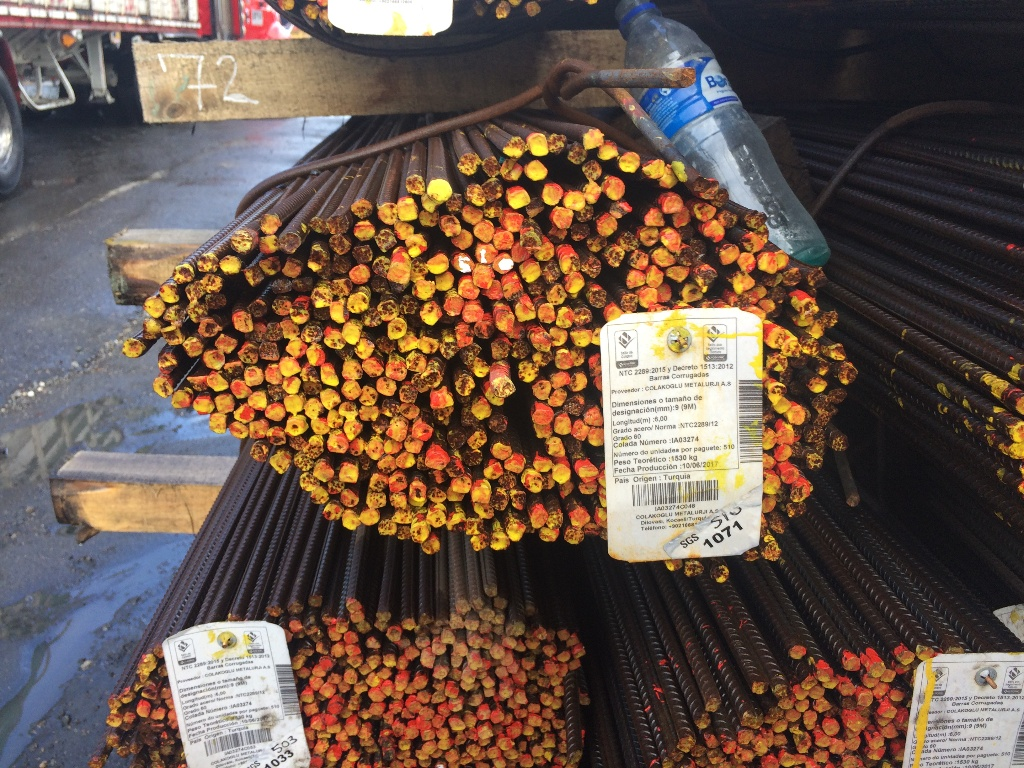dipstick: (425, 178, 455, 202), (305, 247, 333, 272), (143, 295, 170, 320), (229, 228, 257, 252), (430, 391, 458, 414), (459, 203, 485, 226), (506, 186, 530, 210), (406, 349, 430, 373), (197, 252, 221, 276), (658, 192, 685, 213), (730, 271, 758, 291), (493, 377, 519, 398), (504, 138, 532, 157), (532, 240, 555, 263), (279, 232, 302, 255), (661, 228, 684, 251), (580, 182, 604, 204), (701, 221, 725, 243), (542, 180, 563, 205), (387, 265, 412, 286), (327, 234, 353, 254), (204, 295, 230, 315), (456, 152, 479, 174), (525, 159, 548, 181), (601, 176, 623, 199), (471, 265, 494, 287), (232, 311, 255, 333), (426, 446, 449, 468), (183, 336, 206, 358), (756, 251, 777, 275), (458, 277, 482, 298), (421, 302, 445, 323), (197, 318, 221, 339), (521, 470, 545, 491), (167, 387, 191, 408), (566, 328, 591, 348), (205, 374, 230, 394), (527, 133, 549, 155), (697, 178, 719, 200), (682, 280, 704, 302), (657, 164, 678, 187), (734, 252, 757, 273), (354, 219, 375, 242), (406, 235, 427, 258), (320, 363, 341, 386), (260, 214, 284, 234), (428, 253, 448, 277), (452, 328, 476, 348), (824, 342, 848, 362), (175, 264, 199, 284), (247, 420, 272, 439), (375, 231, 396, 253), (258, 235, 280, 256), (220, 255, 242, 276), (349, 263, 370, 285), (494, 312, 516, 333), (455, 375, 476, 397), (530, 331, 552, 352), (342, 360, 364, 381), (365, 436, 386, 458), (377, 300, 399, 321), (567, 140, 587, 163), (552, 206, 572, 229), (610, 200, 633, 220), (597, 213, 617, 236), (438, 215, 461, 235), (505, 211, 525, 234), (516, 298, 536, 321), (663, 265, 690, 282), (537, 302, 556, 326), (162, 326, 186, 345), (473, 221, 494, 242), (476, 242, 497, 263), (463, 302, 484, 323), (311, 286, 332, 307), (216, 333, 237, 354), (502, 160, 524, 180), (466, 185, 486, 207), (247, 390, 269, 410), (267, 426, 289, 446), (338, 463, 360, 483), (693, 201, 716, 220), (398, 197, 417, 220), (655, 247, 678, 266), (472, 479, 491, 502), (492, 339, 511, 362), (491, 489, 509, 513), (123, 338, 147, 356), (631, 250, 652, 270), (279, 357, 300, 377), (204, 350, 224, 371), (207, 414, 228, 434), (294, 451, 315, 471), (837, 365, 858, 385), (518, 363, 539, 383), (584, 128, 603, 150), (493, 253, 512, 275), (327, 434, 349, 453), (552, 463, 571, 485), (461, 449, 483, 468), (285, 338, 308, 356), (574, 418, 592, 441), (807, 358, 830, 376), (328, 215, 352, 232), (488, 532, 512, 549), (620, 152, 640, 172), (281, 258, 301, 278), (414, 278, 434, 298), (387, 319, 407, 339), (314, 462, 334, 482), (195, 396, 215, 416), (400, 294, 420, 314), (378, 203, 397, 224), (566, 272, 585, 293), (644, 267, 665, 286), (531, 380, 552, 399), (265, 403, 286, 422), (230, 379, 251, 398), (555, 413, 574, 434), (215, 394, 236, 413), (586, 407, 605, 428), (555, 349, 574, 370), (719, 244, 737, 266), (352, 200, 374, 218), (363, 357, 385, 375), (418, 336, 440, 354), (673, 206, 691, 228), (283, 396, 305, 414), (285, 416, 307, 434), (264, 322, 286, 340), (796, 301, 818, 319), (472, 399, 490, 421), (385, 363, 408, 380), (159, 285, 182, 302), (714, 185, 729, 211), (557, 307, 573, 331), (683, 562, 707, 578), (569, 510, 593, 526), (446, 429, 470, 445), (599, 139, 618, 159), (744, 232, 763, 252), (354, 337, 374, 356), (302, 323, 322, 342), (325, 330, 345, 349), (549, 327, 569, 346), (572, 307, 592, 326), (787, 404, 807, 423), (341, 379, 361, 398), (251, 441, 271, 460), (580, 463, 599, 483), (757, 297, 777, 316), (491, 443, 512, 461), (565, 526, 586, 544), (375, 456, 396, 474), (323, 503, 344, 521), (340, 489, 361, 507), (763, 474, 781, 495), (467, 431, 488, 449), (646, 158, 663, 180), (347, 295, 369, 312), (533, 408, 555, 425), (233, 405, 255, 422), (260, 344, 282, 361), (532, 455, 554, 472), (157, 353, 179, 370), (381, 437, 404, 453), (473, 504, 496, 520), (260, 256, 279, 275), (762, 543, 781, 562), (205, 275, 224, 294), (406, 177, 426, 195), (377, 378, 397, 396), (244, 367, 264, 385), (586, 428, 606, 446), (184, 286, 204, 304), (418, 209, 439, 226), (473, 355, 490, 376), (646, 208, 667, 225), (305, 400, 326, 417), (378, 518, 399, 535), (388, 425, 409, 442), (487, 416, 508, 433), (774, 250, 790, 272), (281, 377, 303, 393), (514, 244, 532, 263), (309, 217, 328, 235), (414, 423, 433, 441), (272, 453, 290, 472), (639, 288, 657, 307), (481, 161, 501, 178), (548, 285, 565, 305), (777, 425, 797, 442), (584, 258, 604, 275), (452, 477, 472, 494), (570, 371, 587, 391), (243, 269, 264, 285), (454, 255, 475, 271), (549, 436, 565, 457), (359, 509, 381, 524), (308, 348, 326, 366), (573, 222, 591, 240), (360, 387, 378, 405), (264, 365, 282, 383), (311, 417, 329, 435), (713, 565, 731, 583), (507, 454, 525, 472), (350, 437, 368, 455), (718, 211, 737, 228), (494, 232, 513, 249), (774, 444, 793, 461), (781, 467, 800, 484), (331, 303, 348, 322), (590, 288, 607, 307), (621, 293, 638, 312), (422, 534, 439, 553), (395, 451, 414, 468), (370, 473, 387, 492), (441, 338, 460, 355), (808, 377, 831, 391), (271, 299, 291, 315), (239, 348, 259, 364), (321, 390, 341, 406), (344, 421, 364, 437), (540, 525, 560, 541), (357, 406, 379, 420), (414, 375, 432, 392), (507, 524, 524, 542), (312, 485, 329, 503), (832, 433, 849, 451), (551, 372, 569, 389), (466, 518, 484, 535), (509, 491, 527, 508), (761, 496, 778, 514), (154, 378, 171, 396), (549, 135, 565, 154), (300, 474, 319, 490), (427, 512, 446, 528), (144, 319, 163, 335), (428, 487, 445, 504), (343, 324, 359, 342), (400, 385, 416, 403), (411, 526, 429, 542), (436, 277, 454, 293), (749, 211, 765, 228), (343, 513, 360, 529), (628, 271, 646, 286), (787, 504, 807, 517), (533, 512, 549, 528), (390, 476, 406, 492), (807, 456, 823, 471), (293, 308, 308, 322)
